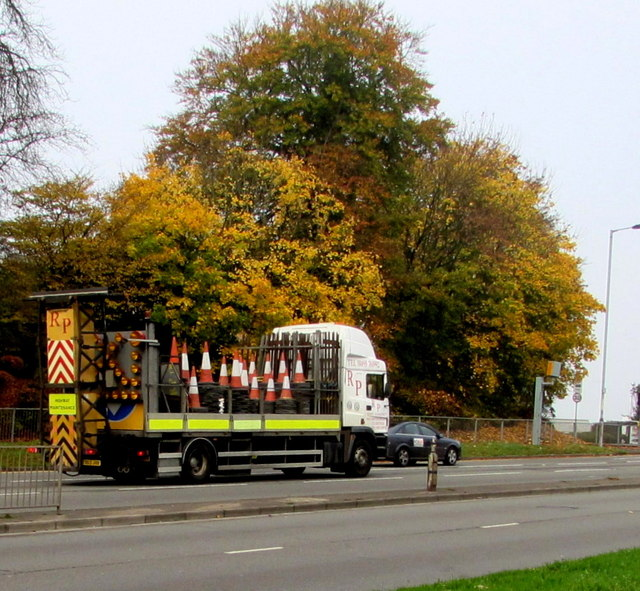cone: (176, 366, 210, 415), (194, 336, 221, 389), (225, 345, 252, 392), (210, 352, 235, 388), (176, 339, 197, 381), (289, 348, 308, 386), (277, 367, 297, 402), (259, 374, 282, 402), (260, 350, 276, 390), (273, 350, 290, 386)
